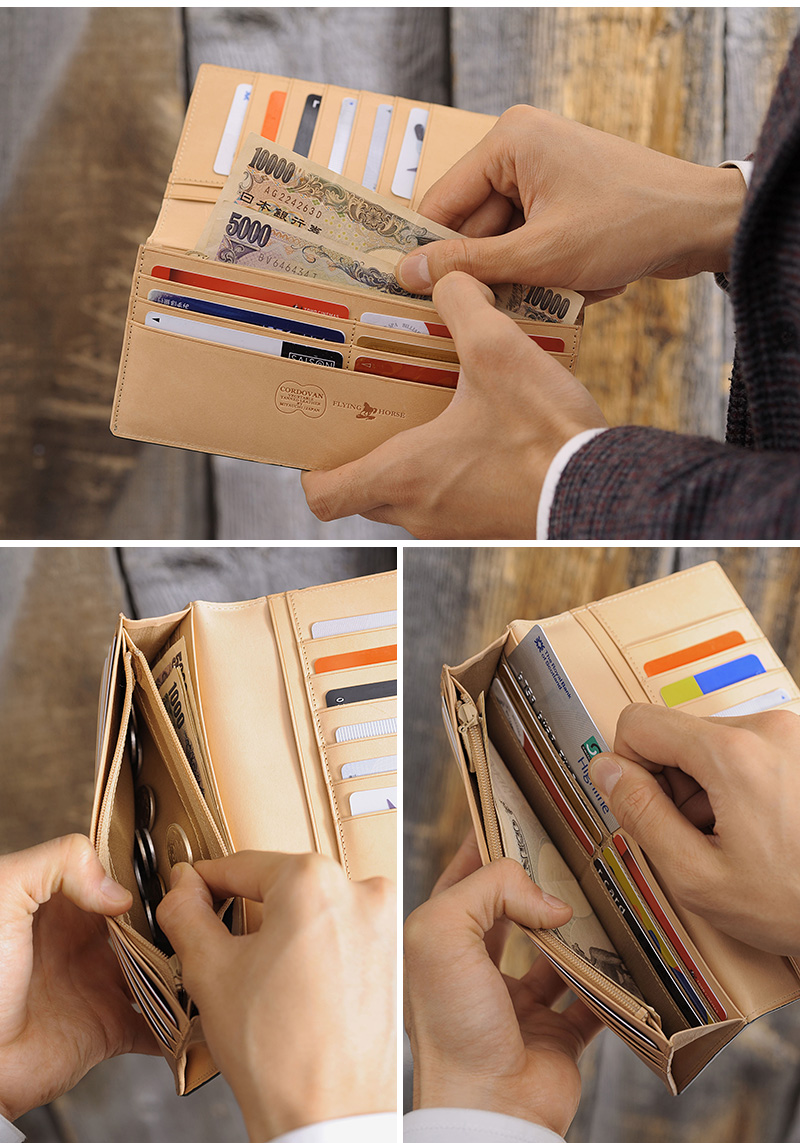monedero: (104, 57, 602, 483), (436, 561, 800, 1101), (76, 567, 399, 1101)
